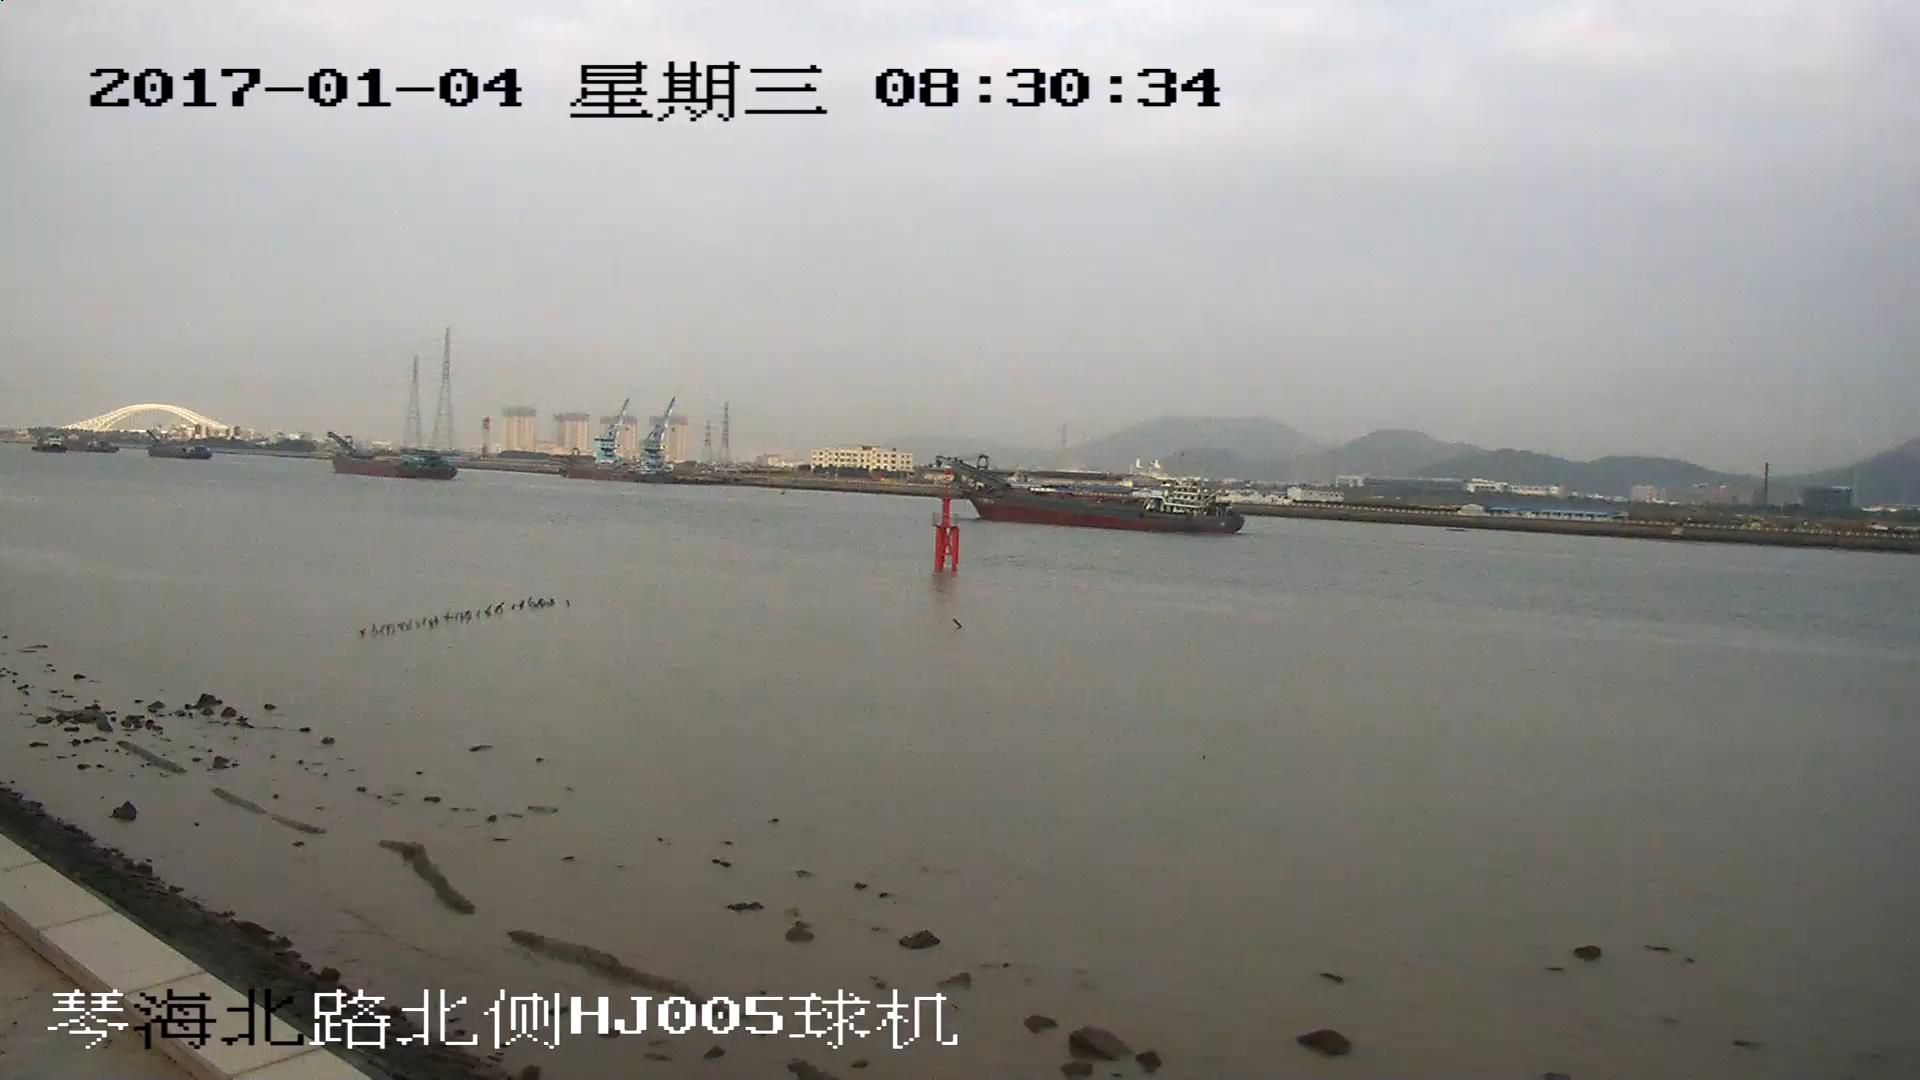bulk cargo carrier: (942, 457, 1244, 533), (327, 432, 457, 478)
